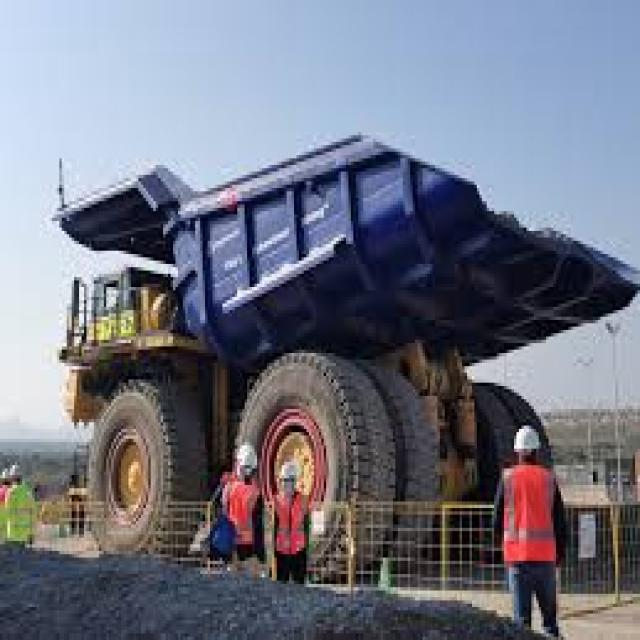dump_truck: (42, 128, 633, 590)
